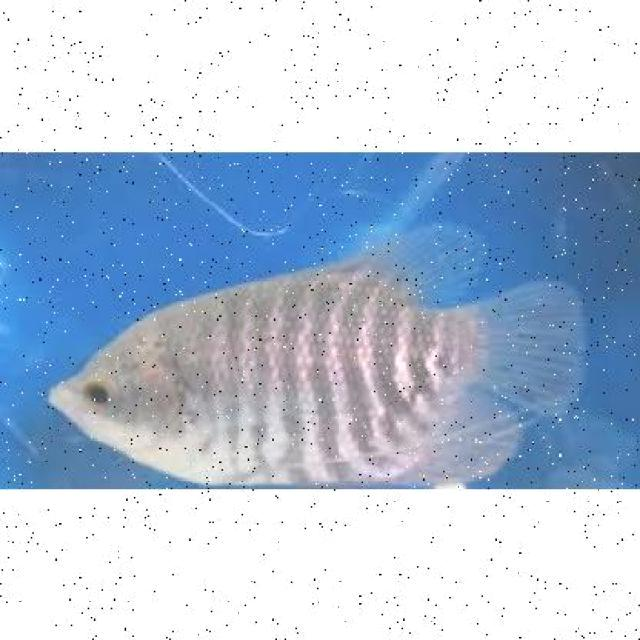gurame: (44, 224, 578, 486)
